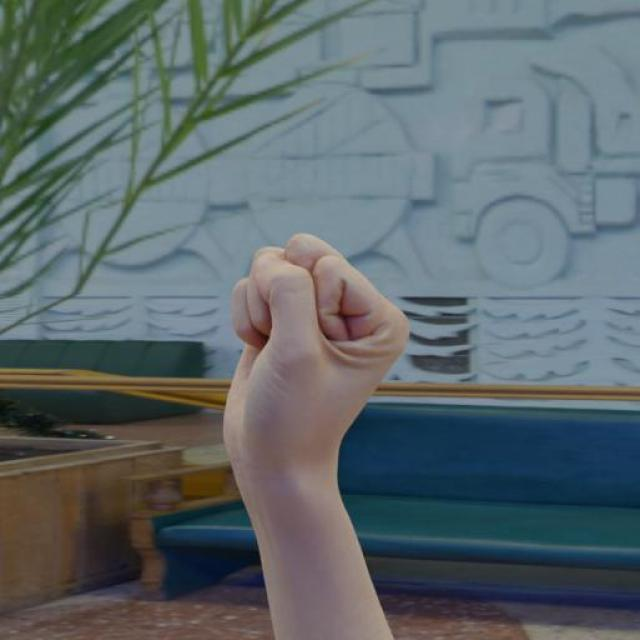S: (215, 228, 419, 477)
